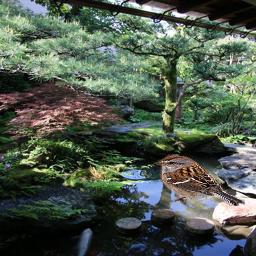Sparrow: (153, 154, 245, 206)
